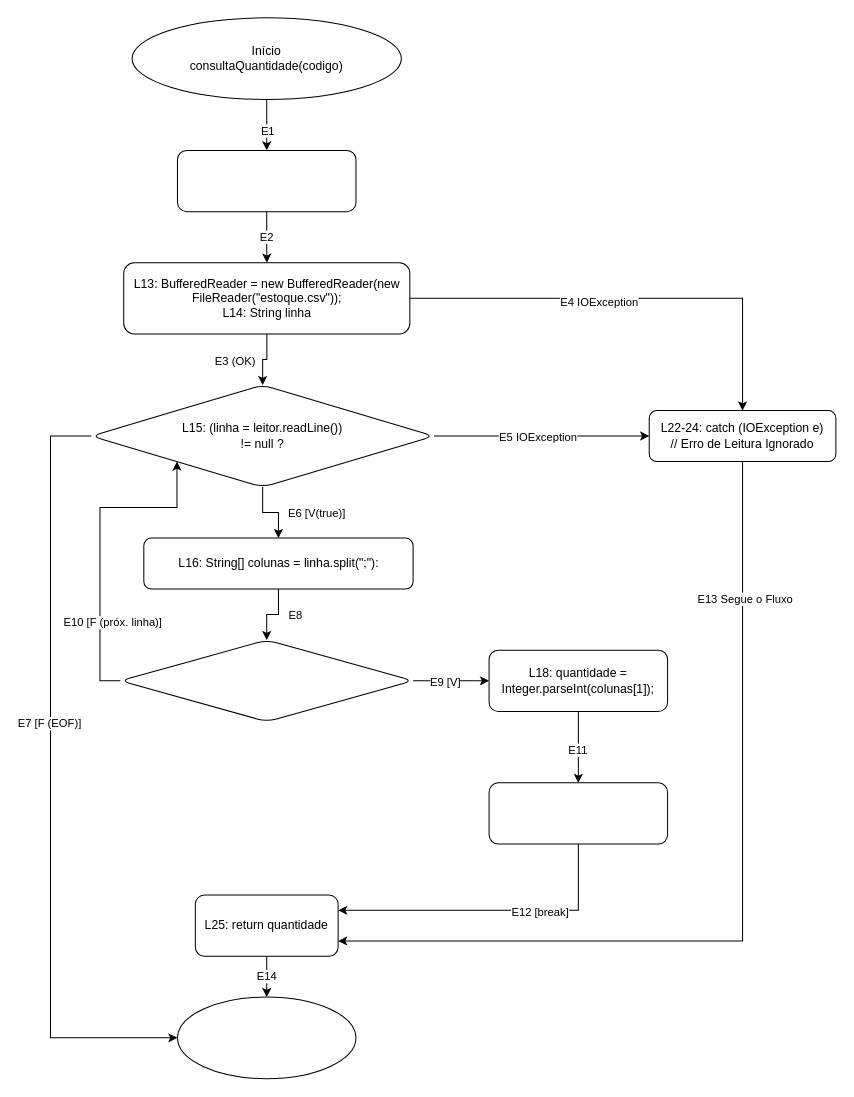
This 854x1097 diagram has some shape labels left out. Each missing label, with the centre of its shape:
"Fim" belongs at [266,1037].
"L11: int quantidade = 0; L12: inicio bloco try;" belongs at [266,180].
"L17: colunas[0].equals(codigo)?" belongs at [266,680].
"L19: break; (Interrompe laço)" belongs at [578,813].
